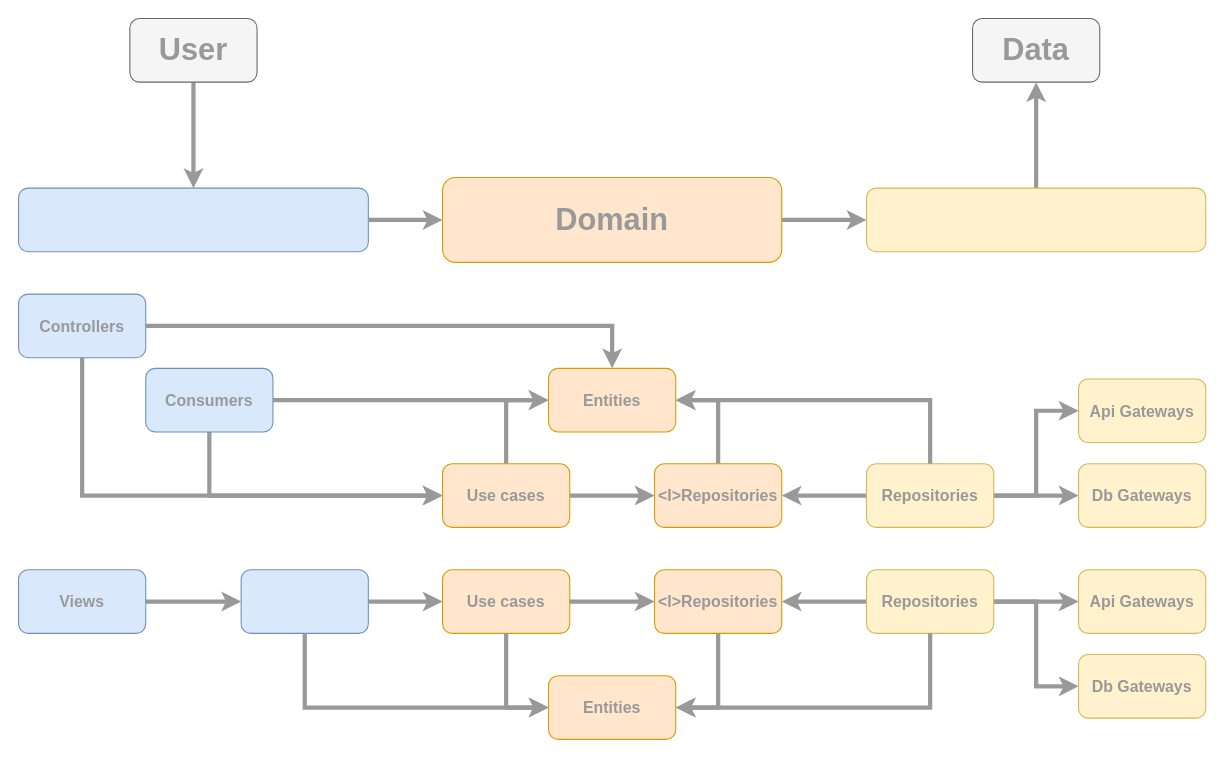
Some shapes in this 1224 by 758 pixel diagram are drawn without their labels. Each missing label, with the box of its shape:
Persistence: (865, 187, 1206, 252)
Presentation: (17, 187, 368, 252)
View models: (240, 569, 368, 633)
